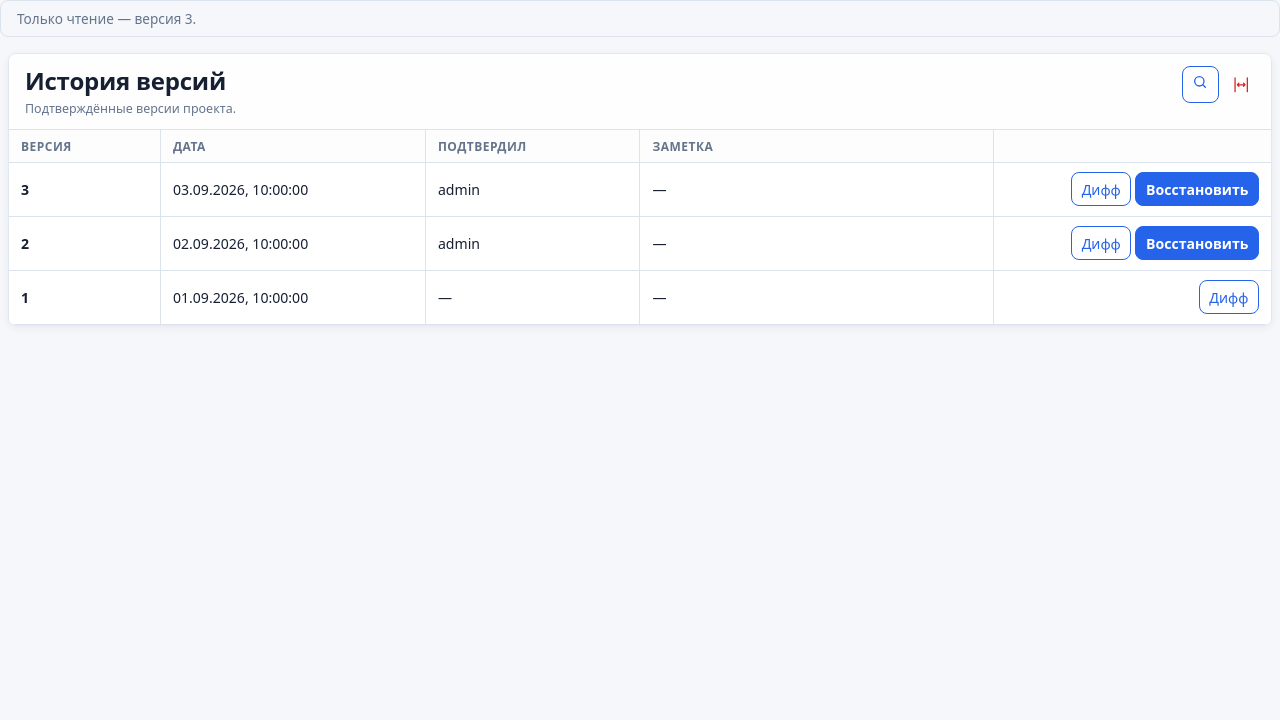
Test case: HistoryPage › restores after confirmation for admins
Expected: the text "3" is shown, top-left (21, 180), bottom-right (29, 199)
Step 1. Click the button titled "Восстановить версию 2" in the row of "02.09.2026, 10:00:00" → (1197, 243), box top-left (1135, 226), bottom-right (1259, 260)
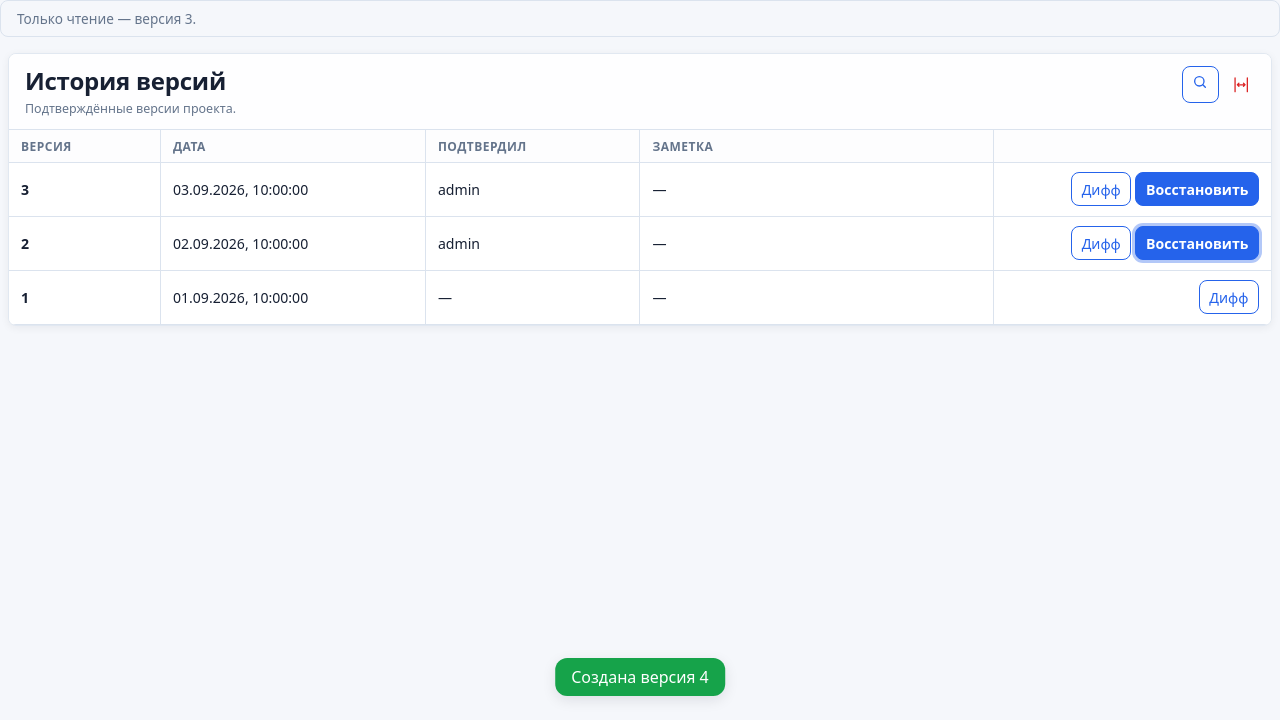
Expected: the message with test id "banner" reads "Создана версия 4", top-left (571, 666), bottom-right (709, 688)
